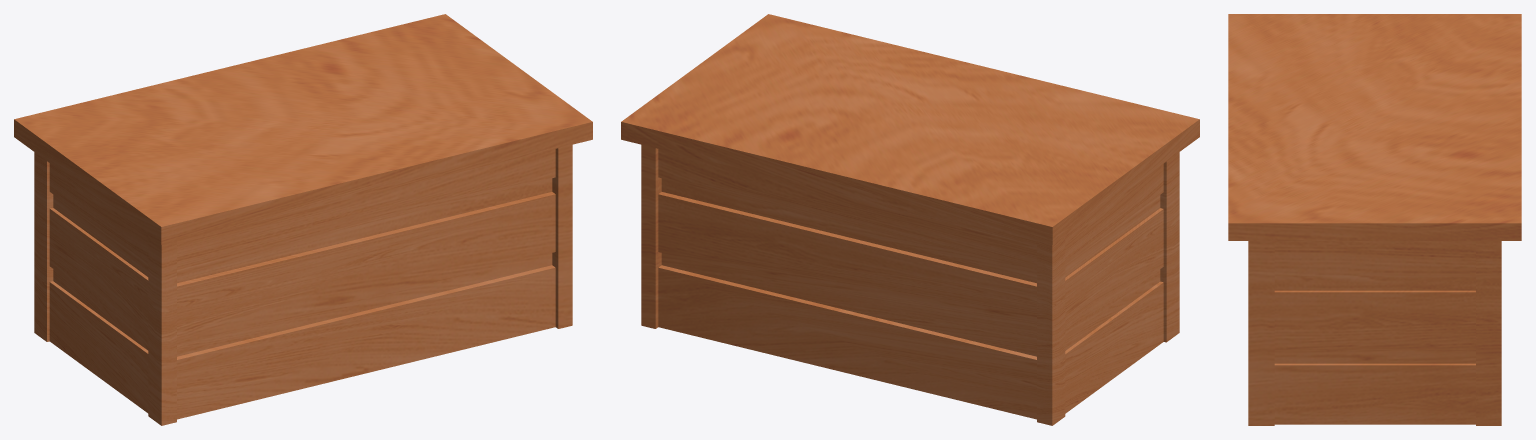
File: Table.fbx
3 views of the same model, side by side, from view 1: azimuth 30°, elevation 25°; view 2: azimuth 150°, elevation 25°; view 3: azimuth 270°, elevation 25° (orthographic).
Visible parts, largest first — view 1: pCube39; view 2: pCube39; view 3: pCube39.
Part boxes in pixels (x1=…): pCube39: x1=14, y1=14, x2=592, y2=425; pCube39: x1=621, y1=14, x2=1199, y2=425; pCube39: x1=1228, y1=14, x2=1521, y2=425.
Size of the model in its own units: 206 by 95.22 by 122.
